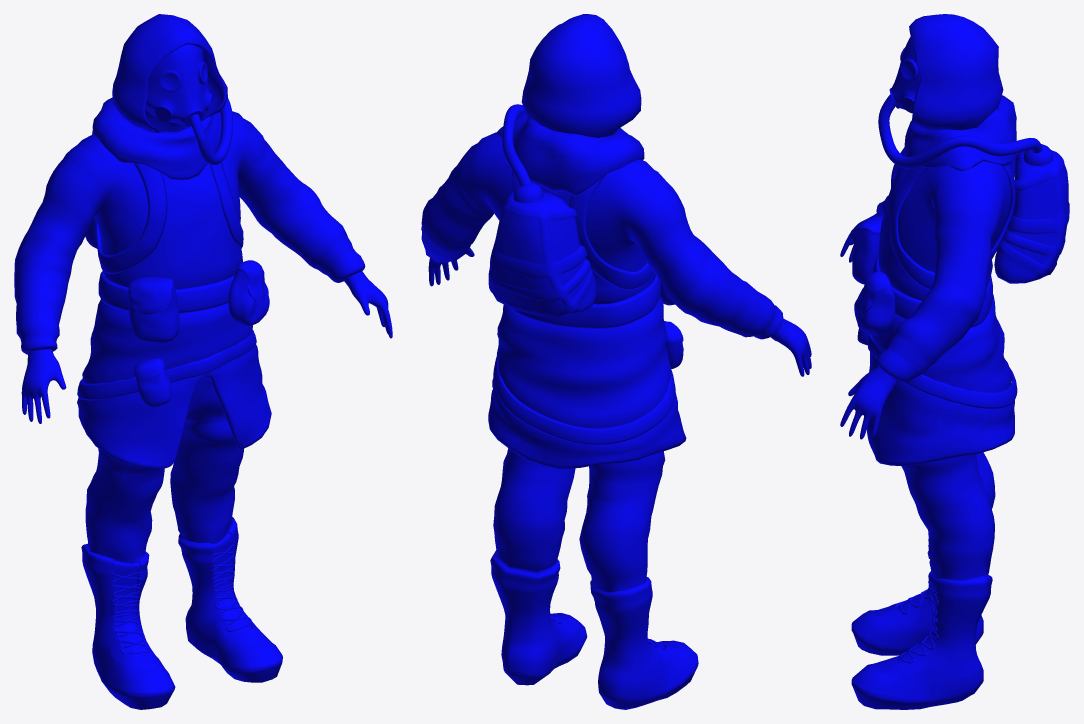
Rendered from survivor.fbx.
3 views of the same model, side by side, from view 1: azimuth 30°, elevation 25°; view 2: azimuth 150°, elevation 25°; view 3: azimuth 270°, elevation 25° (orthographic). The views are drawn at different scales.
Parts seen in each view (by area): view 1: Body, Legs, Head; view 2: Body, Legs, Head; view 3: Body, Head, Legs.
Boxes of the visible parts, box(x1,y1,x2,y2) form: Body: box(14, 111, 392, 468); Legs: box(81, 376, 282, 709); Head: box(85, 14, 232, 248); Body: box(421, 132, 811, 469); Legs: box(490, 448, 698, 709); Head: box(488, 14, 644, 316); Body: box(840, 147, 1017, 465); Head: box(878, 14, 1069, 283); Legs: box(851, 452, 995, 709).
Size of the model in its own units: 109 by 187 by 58.68.
3 materials, 3 textured.
